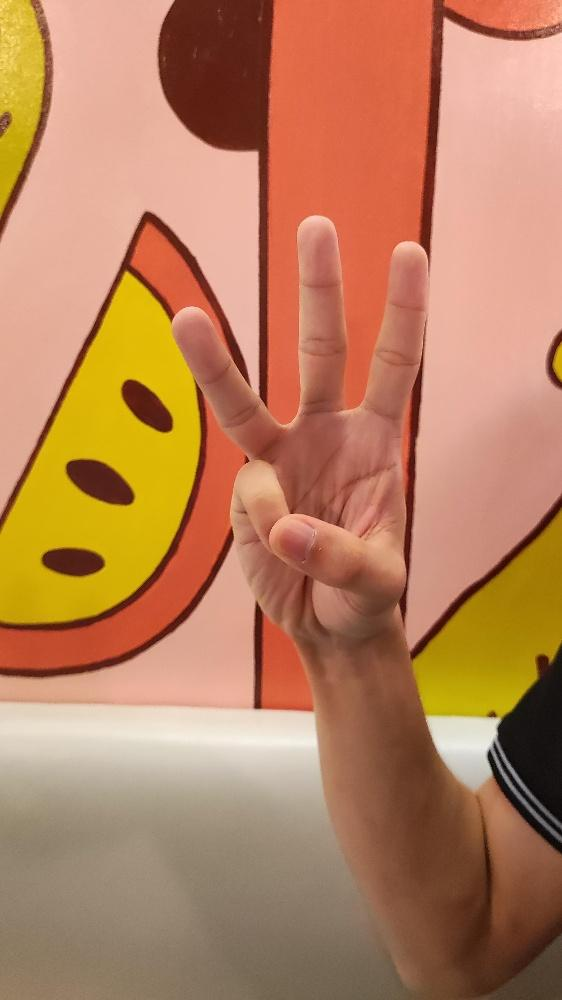w: (169, 212, 431, 639)
